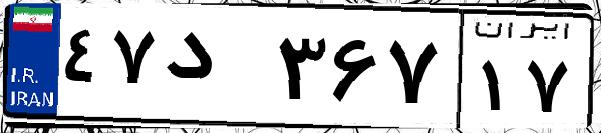1: (475, 38, 525, 113)
3: (270, 28, 330, 110)
4: (57, 26, 110, 100)
6: (330, 28, 385, 110)
7: (385, 28, 445, 110), (525, 38, 570, 115), (110, 28, 158, 98)
د: (158, 20, 270, 120)
